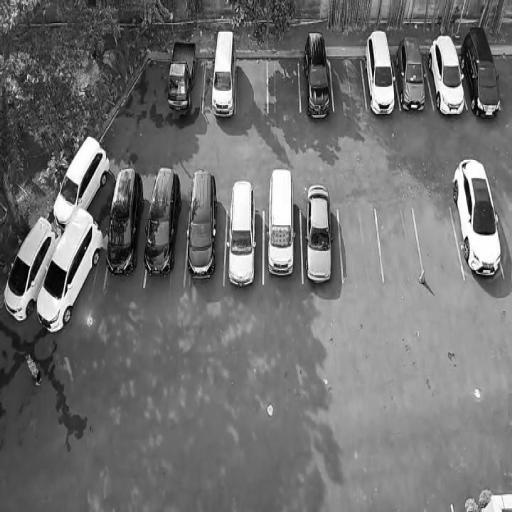Car: (27, 197, 108, 340), (445, 151, 505, 291), (0, 205, 61, 326), (47, 124, 114, 227), (455, 16, 506, 125), (100, 165, 142, 282), (141, 162, 182, 281), (227, 172, 261, 300), (185, 161, 219, 287), (426, 31, 469, 125), (265, 162, 296, 285), (304, 176, 335, 287), (297, 25, 332, 123), (362, 24, 396, 118), (393, 31, 429, 117), (163, 33, 198, 120), (210, 22, 240, 123)
Space Available: (413, 204, 463, 278), (337, 206, 384, 282), (375, 206, 422, 282), (330, 54, 365, 110), (236, 55, 268, 113), (268, 56, 300, 113)
